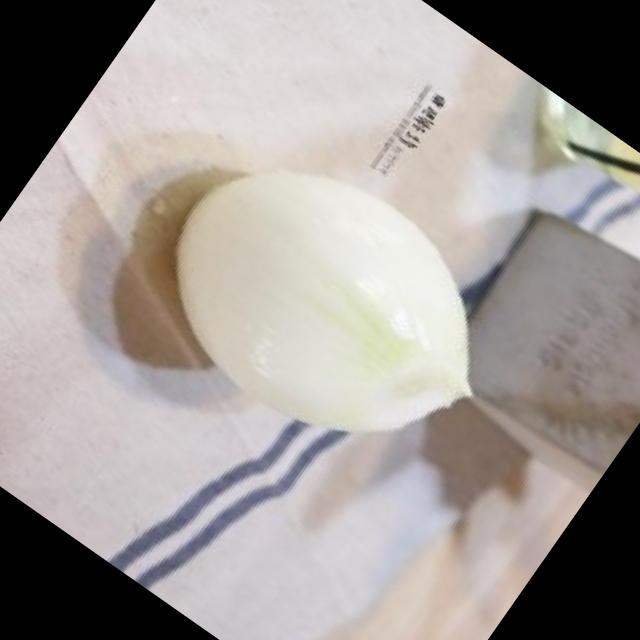Onion: (173, 174, 471, 430)
